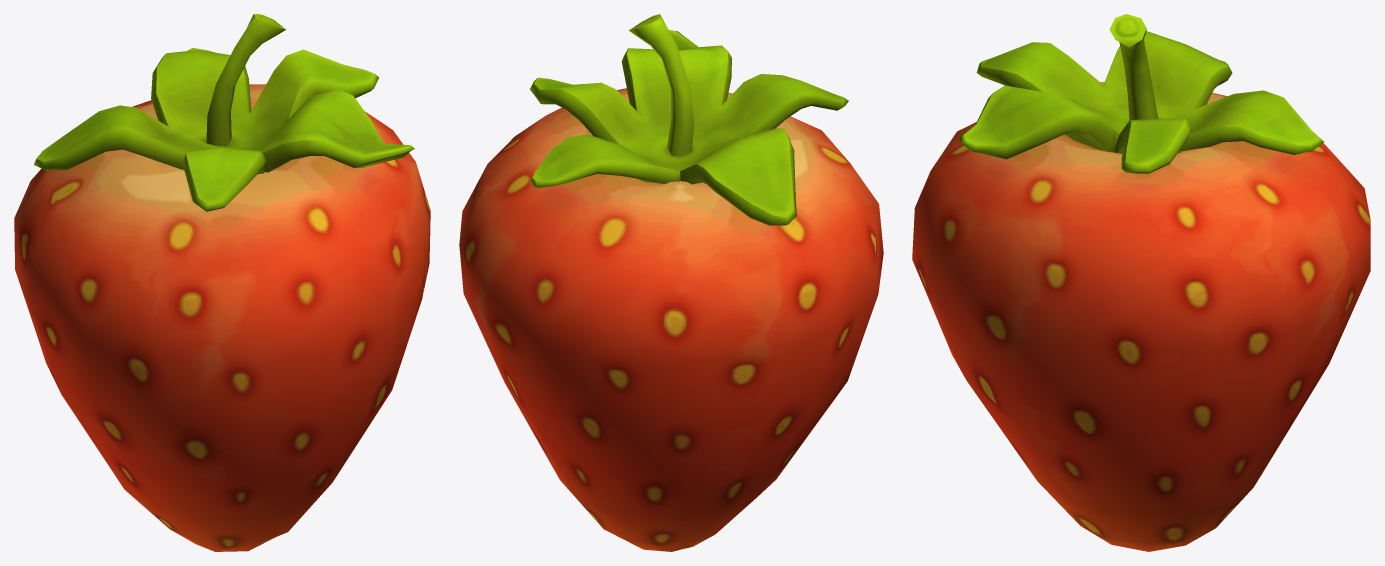
File: SM_StrawberryA.fbx
The picture shows the model from 3 angles, left to right: view 1: azimuth 30°, elevation 25°; view 2: azimuth 150°, elevation 25°; view 3: azimuth 270°, elevation 25°; orthographic projection. The views are drawn at different scales.
Parts seen in each view (by area): view 1: SM_StrawberryA; view 2: SM_StrawberryA; view 3: SM_StrawberryA.
Part boxes in pixels (x1,y1,x2,y2): SM_StrawberryA: (14,14,430,551); SM_StrawberryA: (459,14,883,551); SM_StrawberryA: (912,14,1370,551).
Bounding box in the file's own units: 6.93 × 9.59 × 7.4.
